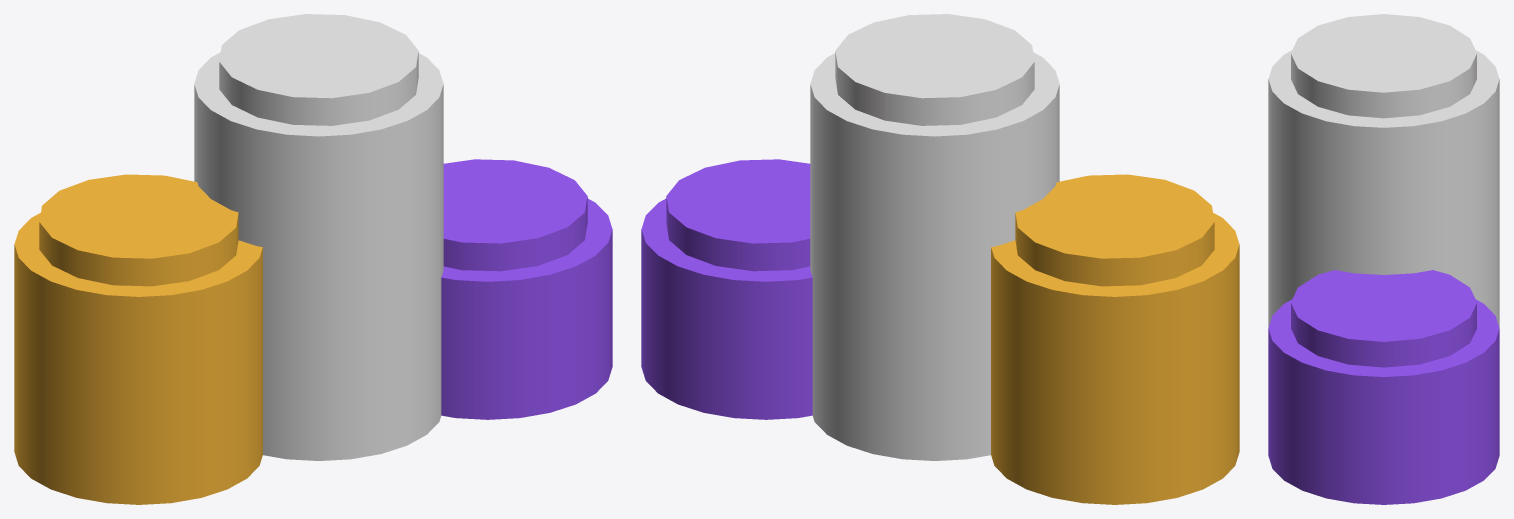
The model's file is Winners Pedestal Cylinder B.fbx.
3 renders of one model, left to right at view 1: azimuth 30°, elevation 25°; view 2: azimuth 150°, elevation 25°; view 3: azimuth 270°, elevation 25°, orthographic. The views are drawn at different scales.
Visible parts, largest first — view 1: Winners Pedestal Cylinder B; view 2: Winners Pedestal Cylinder B; view 3: Winners Pedestal Cylinder B.
Part boxes in pixels (x1,y1,x2,y2): Winners Pedestal Cylinder B: [14, 14, 612, 504]; Winners Pedestal Cylinder B: [641, 14, 1239, 504]; Winners Pedestal Cylinder B: [1268, 14, 1499, 504].
Size of the model in its own units: 337 by 201 by 129.
